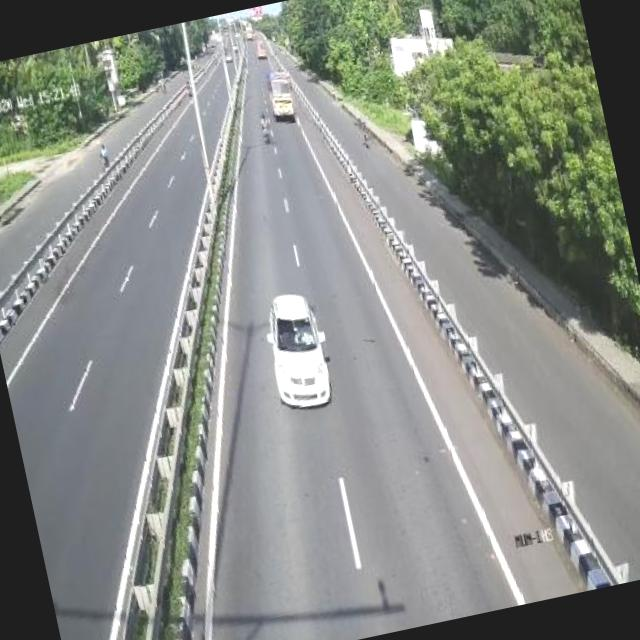car: (263, 285, 338, 416)
